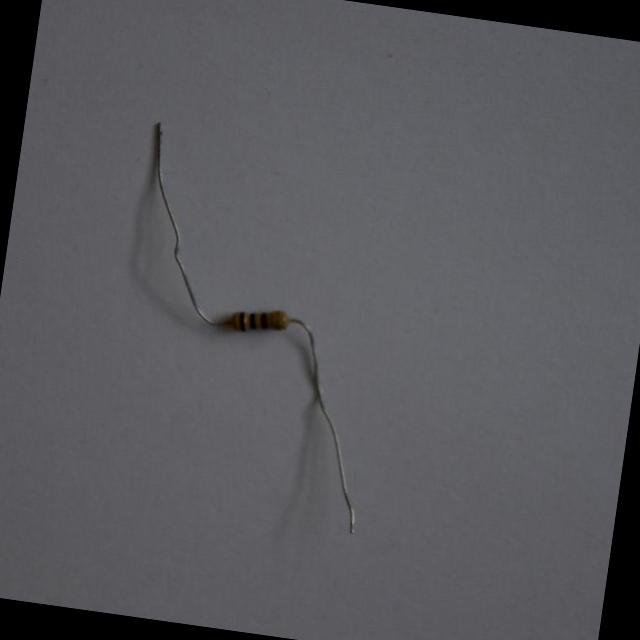Resistor: (229, 309, 290, 336)
black: (247, 310, 257, 328)
brown: (237, 309, 245, 331), (260, 312, 267, 328)
gold: (274, 310, 278, 329)
